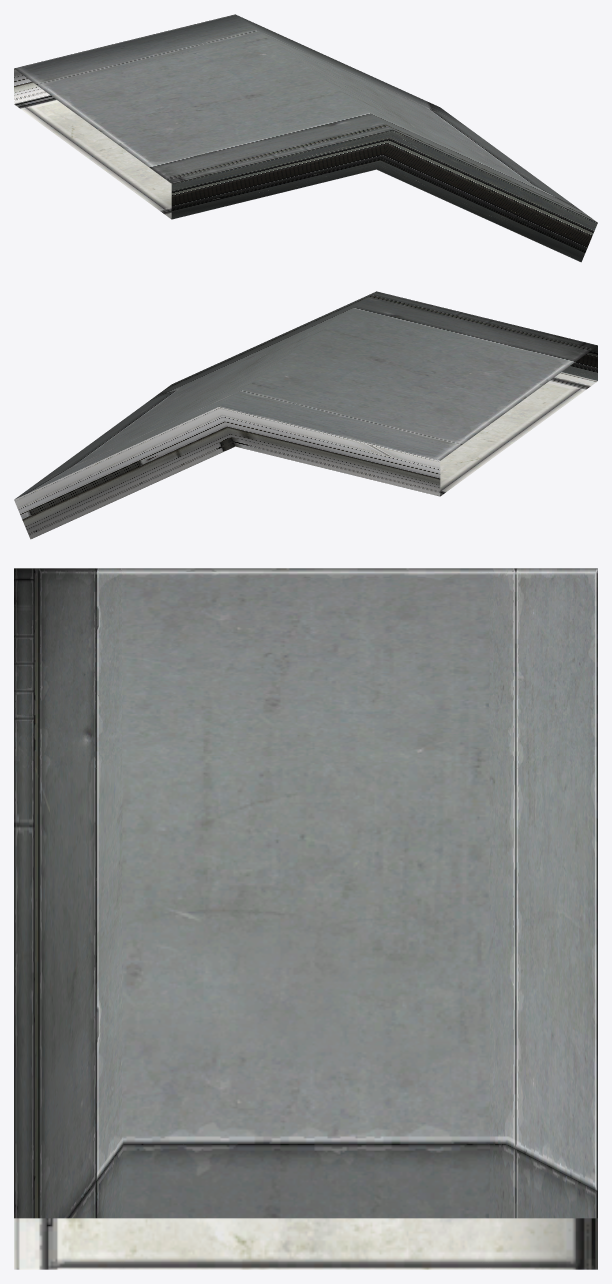
Rendered from Ceiling_12x8_03.FBX.
3 renders of one model, top to bottom at view 1: azimuth 30°, elevation 25°; view 2: azimuth 150°, elevation 25°; view 3: azimuth 270°, elevation 25°, orthographic. The views are drawn at different scales.
Visible parts, largest first — view 1: Ceiling_12x8_03; view 2: Ceiling_12x8_03; view 3: Ceiling_12x8_03.
Boxes of the visible parts, bbox=[...] form: Ceiling_12x8_03: bbox=[14, 14, 597, 262]; Ceiling_12x8_03: bbox=[14, 291, 597, 539]; Ceiling_12x8_03: bbox=[14, 568, 597, 1269].
Bounding box in the file's own units: 12.48 × 5 × 8.
